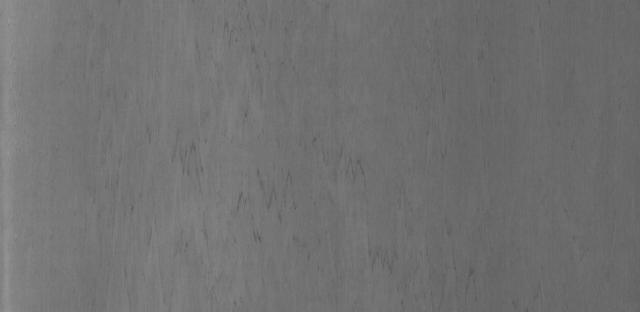silk_spot: (172, 26, 378, 282)
